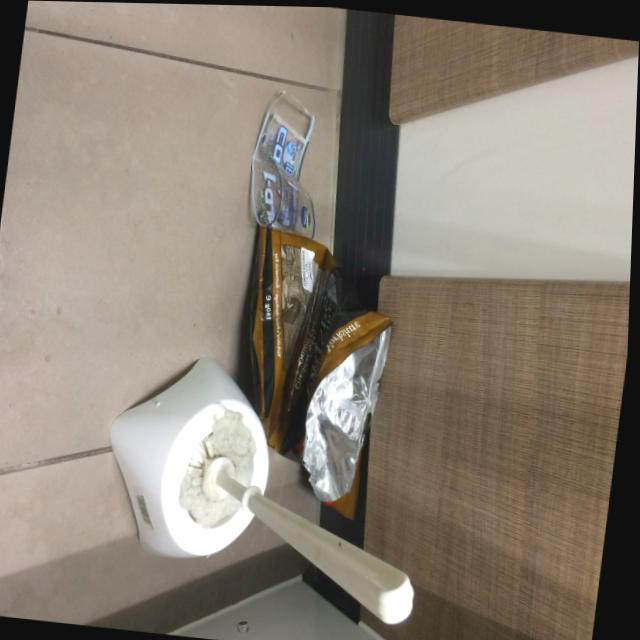Plastic: (211, 208, 409, 511), (236, 79, 337, 243)
